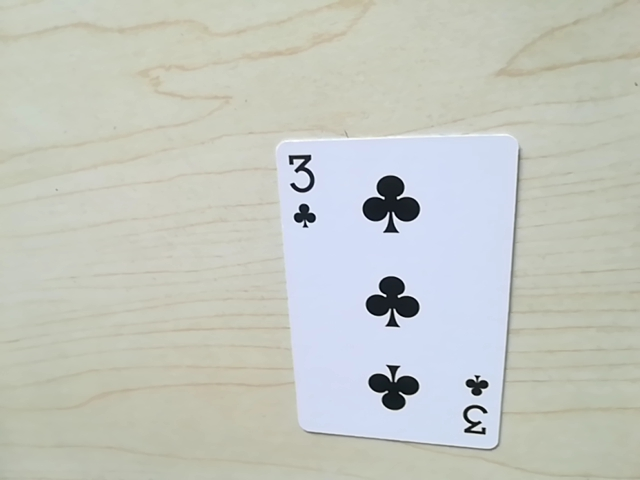mh 3: (280, 150, 321, 232), (457, 367, 495, 448)
